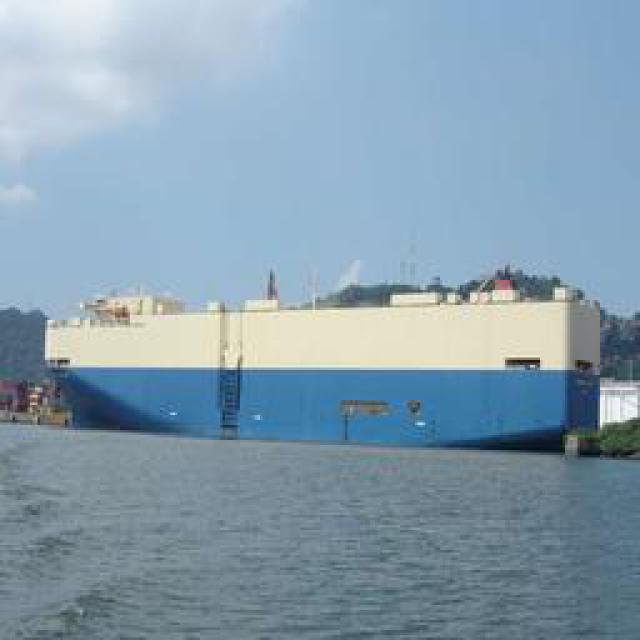Ship: (43, 291, 601, 451)
